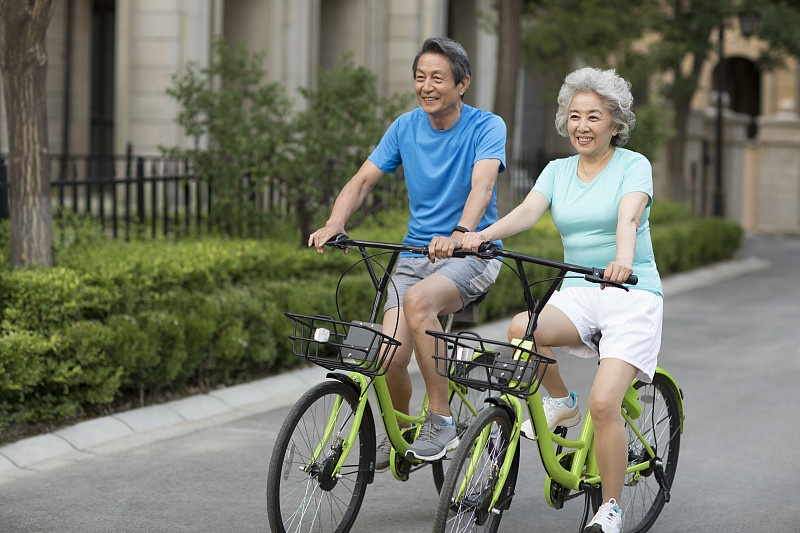non-vehicle: (417, 335, 686, 533), (254, 309, 494, 529)
